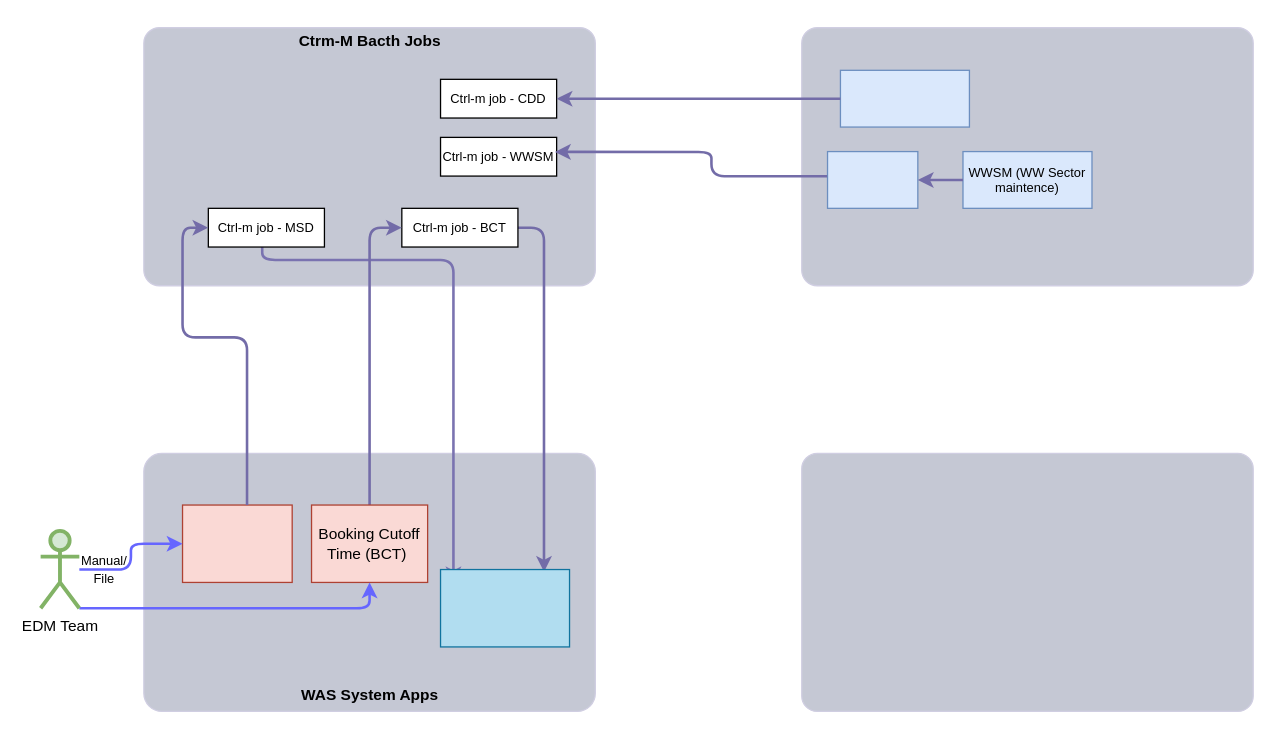
The diagram is 1276 pixels wide and 737 high, and some of its shapes have lost their labels. Here are the shapes that lost their labels. From the top down, the centre of each, then its label:
point (904, 98): CDD ( Collection Duration & Delivery
point (872, 179): Sector Expansion
point (236, 543): Multiple Service Definition (MSD)
point (504, 607): Operational Service Capability
